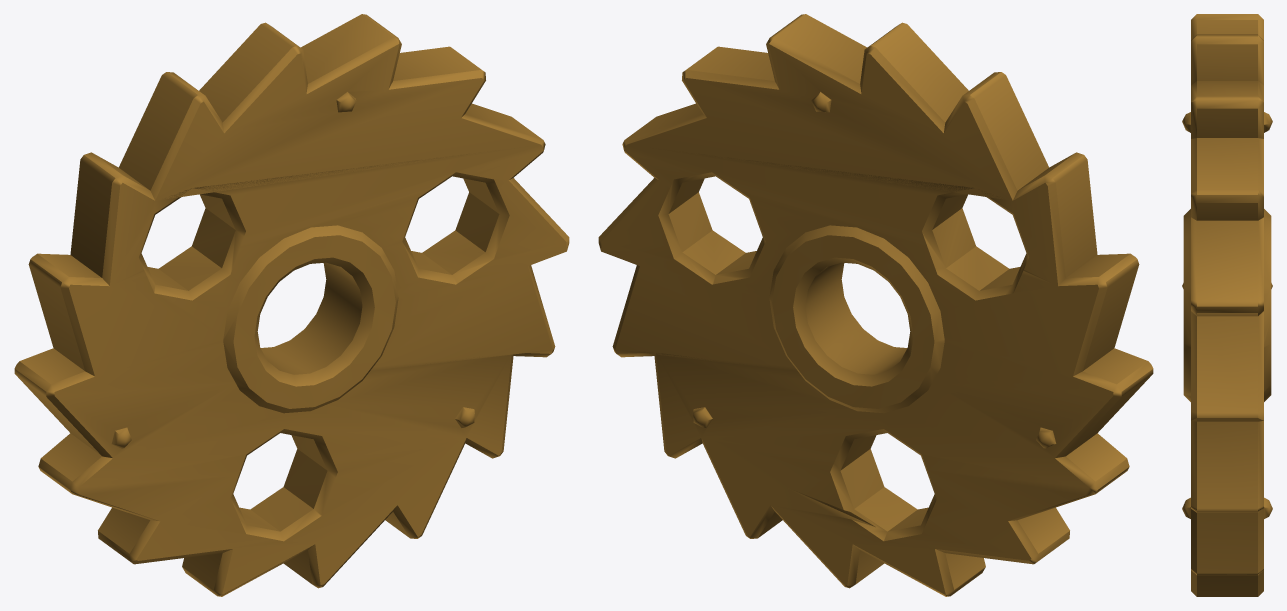
The model's file is ratchet_wheel.glb.
The picture shows the model from 3 angles, left to right: view 1: azimuth 30°, elevation 25°; view 2: azimuth 150°, elevation 25°; view 3: azimuth 270°, elevation 25°; orthographic projection. The views are drawn at different scales.
Visible parts, largest first — view 1: Ratchet_Wheel; view 2: Ratchet_Wheel; view 3: Ratchet_Wheel.
Boxes of the visible parts, left/top/right/bottom form: Ratchet_Wheel: left=14, top=14, right=569, bottom=596; Ratchet_Wheel: left=598, top=14, right=1153, bottom=596; Ratchet_Wheel: left=1182, top=14, right=1272, bottom=596.
Size of the model in its own units: 0.04 by 0.04 by 0.00624.
